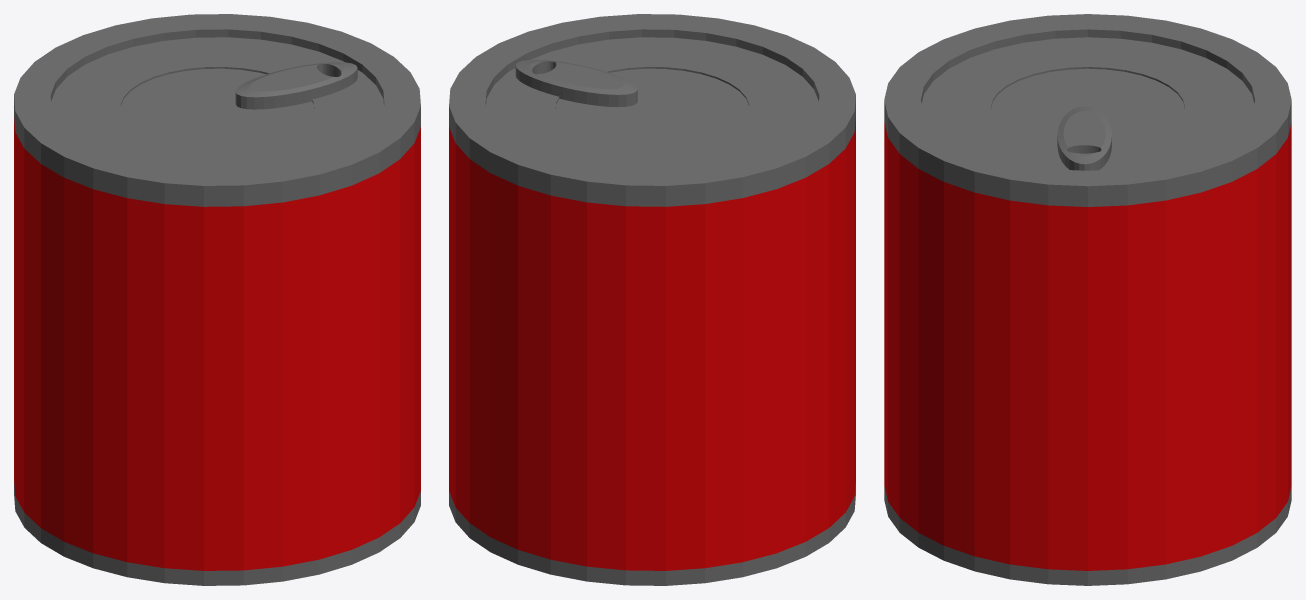
Rendered from food can beef.fbx.
3 views of the same model, side by side, from view 1: azimuth 30°, elevation 25°; view 2: azimuth 150°, elevation 25°; view 3: azimuth 270°, elevation 25° (orthographic).
Parts seen in each view (by area): view 1: Cylinder, Cylinder.001; view 2: Cylinder, Cylinder.001; view 3: Cylinder, Cylinder.001.
Part boxes in pixels (x1,y1,x2,y2): Cylinder: [14, 14, 420, 585]; Cylinder.001: [235, 62, 357, 109]; Cylinder: [449, 14, 855, 585]; Cylinder.001: [515, 59, 637, 107]; Cylinder: [884, 14, 1291, 585]; Cylinder.001: [1057, 106, 1111, 170].
Size of the model in its own units: 200 by 219 by 200.
